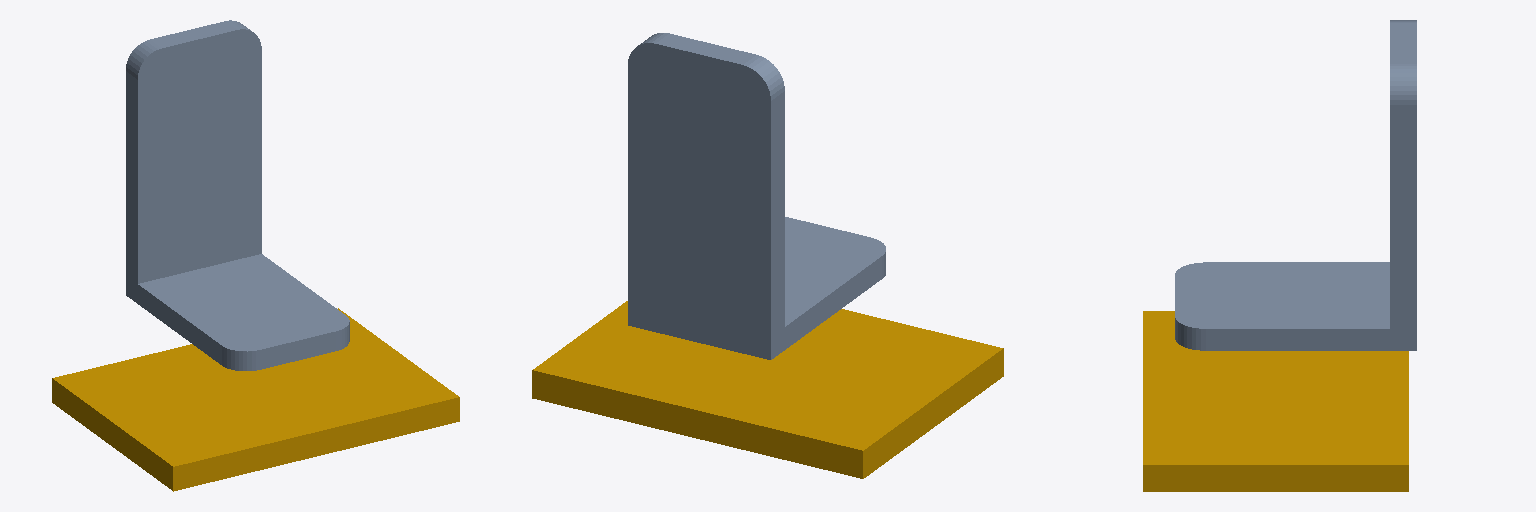
The robot description file, URDF, robot "threedofexample":
<?xml version="1.0"?>

<robot name="threedofexample">

  <!-- ******************************************************** -->
  <!-- ******************* Kinematic Chain ******************** -->
  <!-- ******************************************************** -->
  <!-- Note the 'origin' tag in the joints defines the shift and
       reorientation, i.e. the transform.  For moving joints, this
       happens before the continuous joint rotates around 'axis'. -->

  <!-- World can't take a visual element (at least in Gazebo). -->
  <link name="world"/>

  <joint name="placement" type="fixed">
    <parent link="world"/>
    <child  link="baseplate"/>
    <origin xyz="0 0 0" rpy="0 0 0"/>			<!-- WHERE IS THE BASE -->
  </joint>

  <!-- BASE PLATE: Shift across the base plate to the base motor. --> 
  <link name="baseplate">
    <visual>
      <origin xyz="0.0 0.055 0.00625" rpy="0 0 0"/>
      <geometry>
	<box size="0.15 0.11 0.0123"/>
      </geometry>
      <material name="wood"/>
    </visual>
  </link>

  <joint name="baseplate" type="fixed">
    <parent link="baseplate"/>
    <child  link="basemotor"/>
    <origin xyz="0 0.042 0.0123" rpy="0 0 0"/>
  </joint>

  <!-- BASE MOTOR: Thickness: X5 = 31.1mm, X8 = 45.1mm -->
  <link name="basemotor">
    <visual>
      <origin xyz="0 0.0 0.0" rpy="0 0 -1.5708"/>
      <geometry>
        <mesh filename="package://threedof/meshes/X5.stl"
	      scale="0.001 0.001 0.001"/>
      </geometry>
      <material name="hebi"/>
    </visual>
  </link>

  <joint name="base" type="continuous">
    <parent link="basemotor"/>
    <child  link="lbracket"/>
    <origin xyz="0 0 0.0311" rpy="0 0 0"/>
    <axis   xyz="0 0 1"/>
  </joint>

  <!-- L BRACKET: Shift and rotate across the L bracket. -->
  <link name="lbracket">
    <!-- Add a visual element -->
    <visual>
    <origin xyz="0.0301625 0.071 0.0" rpy="1.5708 0 -1.5708"/>
      <geometry>
        <mesh filename="package://threedof/meshes/bracket.STL"
	      scale="0.001 0.001 0.001"/>
      </geometry>
      <material name="gray"/>
    </visual>
  </link>

  <joint name="lbracket" type="fixed">
    <parent link="lbracket"/>
    <child  link="shouldermotor"/>
    <origin xyz="0 0.0601 0.09085" rpy="-1.5708 0 3.1416"/>	  <!-- L BRACKET DIMENIONS -->
  </joint>

  <!-- SHOULDER MOTOR: Thickness: X5 = 31.1mm, X8 = 45.1mm -->
  <link name="shouldermotor">
    <visual>
    <origin xyz="0 0.0 0.0" rpy="0 0 -1.5708"/>
      <geometry>
        <mesh filename="package://threedof/meshes/X8.stl"
	      scale="0.001 0.001 0.001"/>
      </geometry>
      <material name="hebi"/>
    </visual>
  </link>

  <joint name="shoulder" type="continuous">
    <parent link="shouldermotor"/>
    <child  link="upperarm"/>
    <origin xyz="0 0 0.0451" rpy="0 0 0"/>
    <axis   xyz="0 0 1"/>
  </joint>

  <!-- UPPER ARM: Shift across the upper arm (1/4in thickness) -->
  <link name="upperarm">
    <visual>
      <origin xyz="0.0 0 0.0" rpy="-1.5708 0 0"/>
      <geometry>
        <mesh filename="package://threedof/meshes/upperarm.stl"
              scale="0.001 0.001 0.001"/>
      </geometry>
      <material name="wood"/>
    </visual>
    <!-- Add a visual element -->
  </link>

  <joint name="upperarm" type="fixed">
    <parent link="upperarm"/>
    <child  link="elbowmotor"/>
    <origin xyz="0.381 0 0.0057" rpy="0 0 -1.5708"/>		  <!-- UPPER ARM DIMENIONS -->
  </joint>

  <!-- Elbow motor.  Thickness: X5 = 31.1mm, X8 = 45.1mm -->
  <link name="elbowmotor">
    <visual>
      <origin xyz="0 0.0 0.0" rpy="0 0 -1.5708"/>
      <geometry>
        <mesh filename="package://threedof/meshes/X5.stl"
	      scale="0.001 0.001 0.001"/>
      </geometry>
      <material name="hebi"/>
    </visual>
  </link>

  <joint name="elbow" type="continuous">
    <parent link="elbowmotor"/>
    <child  link="lowerarm"/>
    <origin xyz="0 0 0.0311" rpy="0 0 0"/>
    <axis   xyz="0 0 1"/>
  </joint>

  <!-- Shift across the upper arm (1/4in thickness) -->
  <link name="lowerarm">
    <visual>
      <origin xyz="0.0 0 0.0" rpy="1.5708 0 1.5708"/>		
      <geometry>
        <mesh filename="package://threedof/meshes/pointer.stl"
        scale="0.001 0.001 0.001"/>
      </geometry>
      <material name="wood"/>
    </visual>
  </link>

  <joint name="lowerarm" type="fixed">
    <parent link="lowerarm"/>
    <child  link="tip"/>
    <origin xyz="0.0 0.3683 0.0" rpy="0 0 0"/>		  <!-- UPPER ARM DIMENIONS -->
  </joint>

  <!-- TIP FRAME -->
  <link name="tip"/>

  
  <!-- *************************************************** -->
  <!-- *************** Visual Link Elements ************** -->
  <!-- *************************************************** -->
  <!-- Note collada .dae files have better color/texture   -->
  <!-- suppport that STL files.                            -->

  <!-- Colors -->
  <material name="wood">  <color rgba="0.82 0.62 0.04 1"/>  </material>
  <material name="hebi">  <color rgba="0.82 0.06 0.06 1"/>  </material>
  <material name="gray">  <color rgba="0.54 0.60 0.68 1"/>  </material>

</robot>

--- Facts derived from the render (not from the file) ---
The picture shows the robot from 3 angles, left to right: view 1: azimuth 30°, elevation 25°; view 2: azimuth 150°, elevation 25°; view 3: azimuth 270°, elevation 25°; orthographic projection.
Robot: threedofexample — 9 links, 8 joints (3 continuous, 5 fixed); root link world; default pose: every joint at zero.
Links seen in each view (by area): view 1: lbracket, baseplate; view 2: lbracket, baseplate; view 3: baseplate, lbracket.
Link boxes in pixels (<box>): lbracket: <box>126,20,349,370</box>; baseplate: <box>52,308,459,491</box>; lbracket: <box>628,33,885,359</box>; baseplate: <box>532,301,1003,478</box>; baseplate: <box>1143,311,1408,491</box>; lbracket: <box>1175,20,1416,350</box>.
Bounding box of the posed robot: 0.15 × 0.113 × 0.1683 m (x, y, z).
1 mesh visuals loaded from 5 distinct referenced files (1 binary STL); not drawn: 5 (reference not matched to a file when rendering).